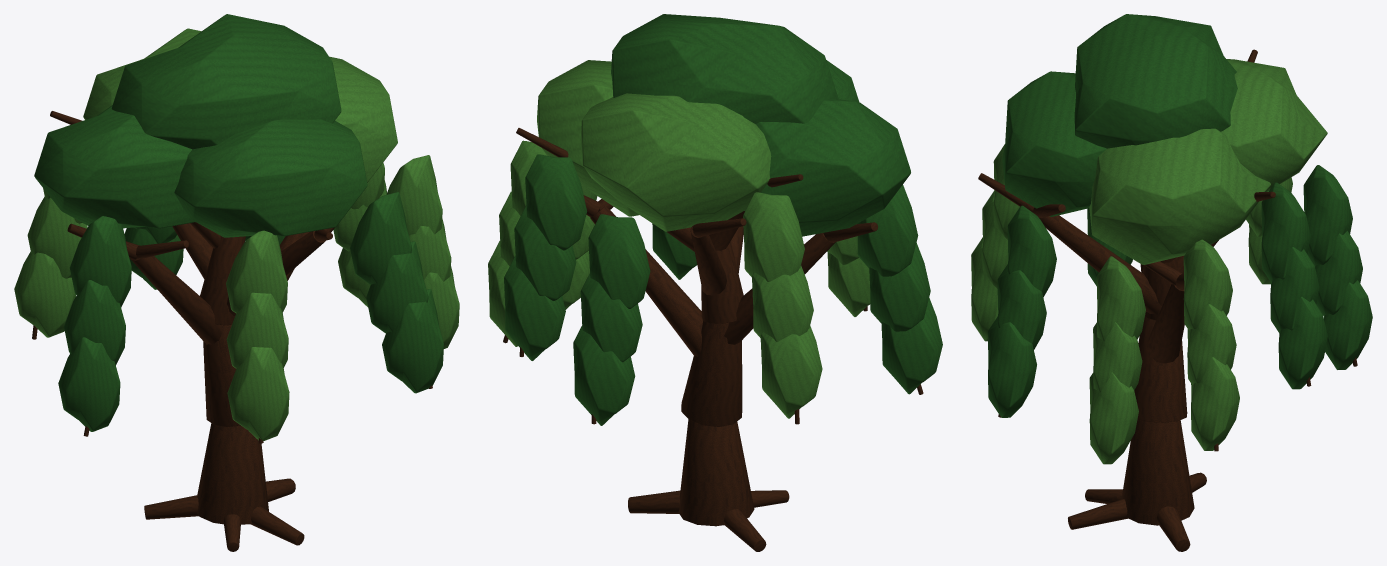
Rendered from prop_tree_02.glb.
3 renders of one model, left to right at view 1: azimuth 30°, elevation 25°; view 2: azimuth 150°, elevation 25°; view 3: azimuth 270°, elevation 25°, orthographic. The views are drawn at different scales.
Parts seen in each view (by area): view 1: WillowCanopy_04, WillowCanopy_02, WillowCanopy_00, WillowTrunk_00, WillowCanopy_01, WillowLeaf_04_02, WillowLeaf_03_02, WillowLeaf_05_02, WillowLeaf_03_00, WillowLeaf_05_00, WillowLeaf_02_02, WillowLeaf_04_00 (+21 smaller); view 2: WillowCanopy_03, WillowCanopy_04, WillowCanopy_00, WillowTrunk_00, WillowCanopy_01, WillowTrunk_01, WillowLeaf_01_00, WillowLeaf_02_00, WillowLeaf_07_00, WillowLeaf_02_02, WillowLeaf_07_02, WillowLeaf_01_02 (+23 smaller); view 3: WillowCanopy_04, WillowCanopy_01, WillowCanopy_02, WillowCanopy_03, WillowTrunk_00, WillowLeaf_05_02, WillowTrunk_01, WillowLeaf_06_02, WillowLeaf_07_00, WillowLeaf_00_02, WillowLeaf_01_00, WillowLeaf_00_00 (+20 smaller).
Boxes of the visible parts, <box> form: WillowCanopy_04: <box>111,14,341,149</box>; WillowCanopy_02: <box>174,119,367,237</box>; WillowCanopy_00: <box>34,105,195,228</box>; WillowTrunk_00: <box>197,423,268,524</box>; WillowCanopy_01: <box>329,56,397,182</box>; WillowLeaf_04_02: <box>227,347,289,441</box>; WillowLeaf_03_02: <box>58,337,120,431</box>; WillowLeaf_05_02: <box>382,289,443,393</box>; WillowLeaf_03_00: <box>69,216,131,307</box>; WillowLeaf_05_00: <box>350,192,411,284</box>; WillowLeaf_02_02: <box>14,251,75,337</box>; WillowLeaf_04_00: <box>226,230,287,313</box>; WillowCanopy_03: <box>580,93,771,231</box>; WillowCanopy_04: <box>611,14,838,124</box>; WillowCanopy_00: <box>744,98,910,236</box>; WillowTrunk_00: <box>678,419,754,526</box>; WillowCanopy_01: <box>537,60,638,216</box>; WillowTrunk_01: <box>681,321,742,426</box>; WillowLeaf_01_00: <box>525,154,587,250</box>; WillowLeaf_02_00: <box>743,192,804,281</box>; WillowLeaf_07_00: <box>588,214,650,308</box>; WillowLeaf_02_02: <box>760,325,822,418</box>; WillowLeaf_07_02: <box>573,325,635,425</box>; WillowLeaf_01_02: <box>504,255,565,360</box>; WillowCanopy_04: <box>1074,14,1237,148</box>; WillowCanopy_01: <box>1089,128,1270,264</box>; WillowCanopy_02: <box>1002,71,1106,216</box>; WillowCanopy_03: <box>1221,59,1327,191</box>; WillowTrunk_00: <box>1121,419,1194,525</box>; WillowLeaf_05_02: <box>987,316,1036,417</box>; WillowTrunk_01: <box>1134,316,1187,422</box>; WillowLeaf_06_02: <box>1089,372,1138,464</box>; WillowLeaf_07_00: <box>1303,165,1352,267</box>; WillowLeaf_00_02: <box>1191,357,1239,450</box>; WillowLeaf_01_00: <box>1261,182,1310,283</box>; WillowLeaf_00_00: <box>1183,239,1232,330</box>.
Size of the model in its own units: 3.55 by 4.15 by 3.12.
Materials: 3 (3 with a texture image).
